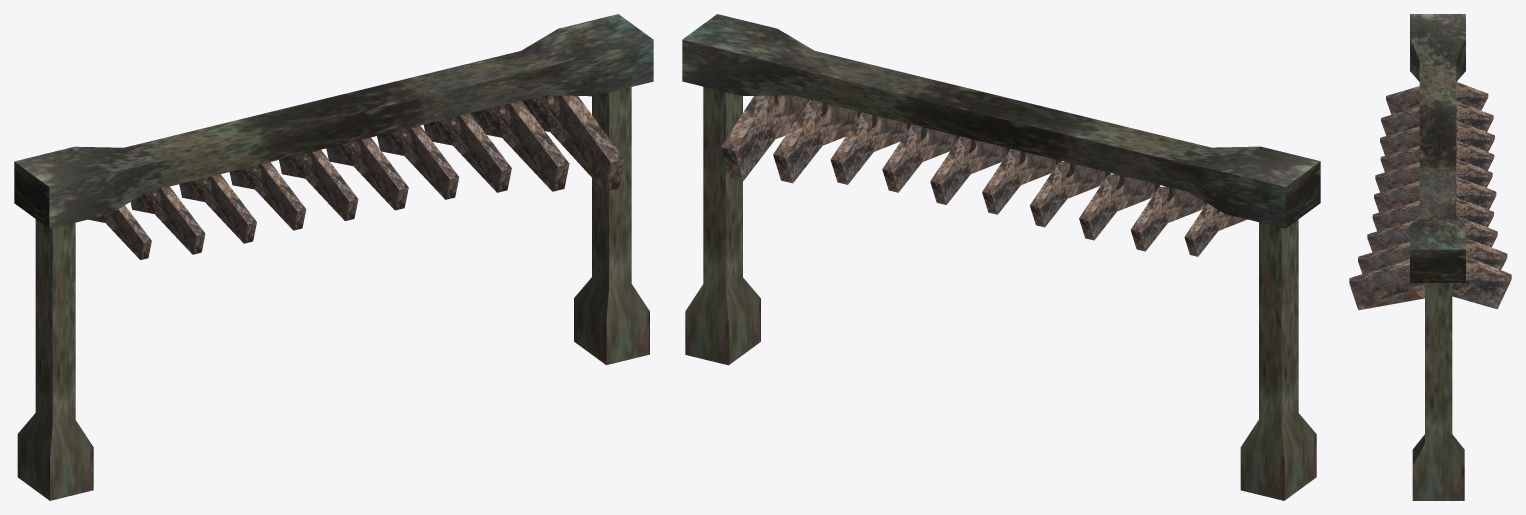
File: 汉代编磬.FBX
3 views of the same model, side by side, from view 1: azimuth 30°, elevation 25°; view 2: azimuth 150°, elevation 25°; view 3: azimuth 270°, elevation 25° (orthographic). The views are drawn at different scales.
Visible parts, largest first — view 1: Box003, Box010, Box004, Box032, Box031, Box030, Box029, Box028, Box027, Box025, Box026, Box024 (+1 smaller); view 2: Box003, Box010, Box004, Box032, Box031, Box030, Box028, Box029, Box025, Box026, Box027, Box024 (+1 smaller); view 3: Box003, Box004, Box032, Box028, Box031, Box029, Box025, Box027, Box024, Box030, Box026, Box023.
Part boxes in pixels (left/top/right/bottom): Box003: left=14, top=14, right=653, bottom=228; Box010: left=17, top=219, right=93, bottom=500; Box004: left=574, top=87, right=649, bottom=364; Box032: left=522, top=95, right=624, bottom=191; Box031: left=470, top=100, right=569, bottom=191; Box030: left=423, top=113, right=511, bottom=192; Box029: left=377, top=125, right=459, bottom=199; Box028: left=326, top=137, right=408, bottom=210; Box027: left=279, top=149, right=358, bottom=220; Box025: left=179, top=174, right=256, bottom=243; Box026: left=229, top=162, right=306, bottom=230; Box024: left=130, top=186, right=205, bottom=254; Box003: left=682, top=14, right=1320, bottom=228; Box010: left=1240, top=219, right=1316, bottom=500; Box004: left=685, top=86, right=760, bottom=365; Box032: left=721, top=95, right=807, bottom=181; Box031: left=773, top=99, right=857, bottom=183; Box030: left=830, top=112, right=907, bottom=184; Box028: left=930, top=136, right=1006, bottom=204; Box029: left=882, top=124, right=956, bottom=192; Box025: left=1079, top=174, right=1155, bottom=240; Box026: left=1030, top=161, right=1105, bottom=227; Box027: left=982, top=148, right=1061, bottom=214; Box024: left=1130, top=186, right=1205, bottom=251; Box003: left=1410, top=14, right=1465, bottom=282; Box004: left=1412, top=283, right=1464, bottom=500; Box032: left=1349, top=256, right=1511, bottom=310; Box028: left=1374, top=176, right=1496, bottom=212; Box031: left=1358, top=238, right=1507, bottom=273; Box029: left=1372, top=197, right=1493, bottom=231; Box025: left=1380, top=120, right=1494, bottom=155; Box027: left=1375, top=159, right=1492, bottom=192; Box024: left=1381, top=101, right=1493, bottom=135; Box030: left=1367, top=216, right=1497, bottom=252; Box026: left=1380, top=140, right=1494, bottom=172; Box023: left=1386, top=82, right=1488, bottom=114.
Bounding box in the file's own units: 188 × 93.93 × 54.73.
